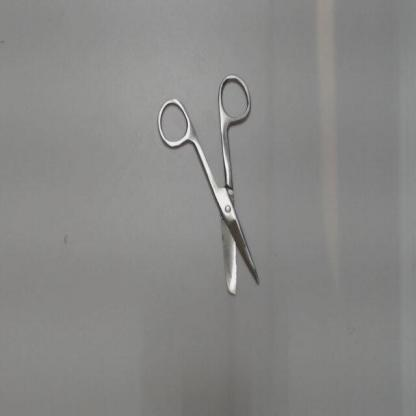Dressing Scissors: (152, 65, 264, 303)
